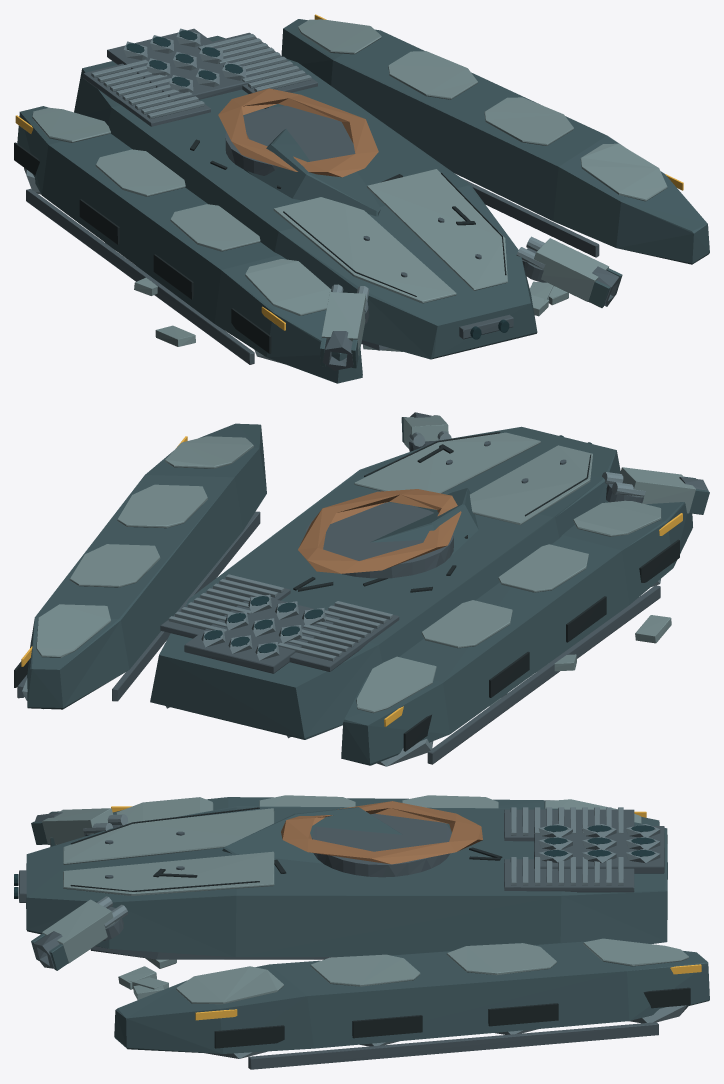
File: mork_hover_tank_low_d3.glb
3 renders of one model, top to bottom at view 1: azimuth 30°, elevation 25°; view 2: azimuth 150°, elevation 25°; view 3: azimuth 270°, elevation 25°, orthographic. The views are drawn at different scales.
Visible parts, largest first — view 1: Low armored main hull.003, Armored hover nacelle.007, Armored hover nacelle.006, Swept glacis armor.006, Tapered nacelle shield.028, Tapered nacelle shield.024, Engine heat exchanger.006, Engine cooling louver.060, Broken turret race, Turret azimuth bearing.003, Detached turret armor, Ground contact skid.012 (+7 smaller); view 2: Low armored main hull.003, Armored hover nacelle.006, Armored hover nacelle.007, Tapered nacelle shield.028, Swept glacis armor.006, Tapered nacelle shield.024, Engine cooling louver.060, Engine heat exchanger.006, Broken turret race, Turret azimuth bearing.003, Ground contact skid.012, Lift vent recess.024 (+7 smaller); view 3: Low armored main hull.003, Armored hover nacelle.007, Swept glacis armor.006, Tapered nacelle shield.028, Engine heat exchanger.006, Ground contact skid.014, Broken turret race, Turret azimuth bearing.003, Lift vent recess.028, Tapered nacelle shield.024, Detached turret armor, Engine cooling louver.060 (+10 smaller).
Boxes of the visible parts, x1,y1,x2,y2 form: Low armored main hull.003: [74, 35, 537, 359]; Armored hover nacelle.007: [281, 19, 709, 264]; Armored hover nacelle.006: [17, 106, 362, 383]; Swept glacis armor.006: [273, 169, 507, 303]; Tapered nacelle shield.028: [298, 19, 667, 201]; Tapered nacelle shield.024: [32, 107, 331, 315]; Engine heat exchanger.006: [83, 28, 513, 339]; Engine cooling louver.060: [91, 34, 311, 118]; Broken turret race: [218, 88, 378, 177]; Turret azimuth bearing.003: [225, 105, 355, 175]; Detached turret armor: [244, 129, 380, 216]; Ground contact skid.012: [26, 188, 254, 364]; Low armored main hull.003: [150, 426, 620, 739]; Armored hover nacelle.006: [341, 502, 692, 765]; Armored hover nacelle.007: [27, 423, 266, 709]; Tapered nacelle shield.028: [36, 436, 253, 657]; Swept glacis armor.006: [354, 432, 592, 525]; Tapered nacelle shield.024: [356, 500, 661, 713]; Engine cooling louver.060: [168, 574, 392, 661]; Engine heat exchanger.006: [160, 441, 566, 673]; Broken turret race: [298, 489, 461, 573]; Turret azimuth bearing.003: [306, 502, 453, 578]; Ground contact skid.012: [427, 585, 660, 764]; Lift vent recess.024: [403, 539, 679, 751]; Low armored main hull.003: [26, 806, 667, 957]; Armored hover nacelle.007: [114, 940, 709, 1053]; Swept glacis armor.006: [63, 808, 274, 895]; Tapered nacelle shield.028: [176, 938, 688, 1004]; Engine heat exchanger.006: [19, 809, 664, 902]; Ground contact skid.014: [248, 1022, 658, 1069]; Broken turret race: [281, 801, 482, 864]; Turret azimuth bearing.003: [312, 813, 451, 877]; Lift vent recess.028: [214, 987, 690, 1048]; Tapered nacelle shield.024: [116, 795, 641, 825]; Detached turret armor: [222, 807, 401, 863]; Engine cooling louver.060: [510, 807, 623, 885].
Size of the model in its own units: 8.79 by 1.98 by 11.14.
